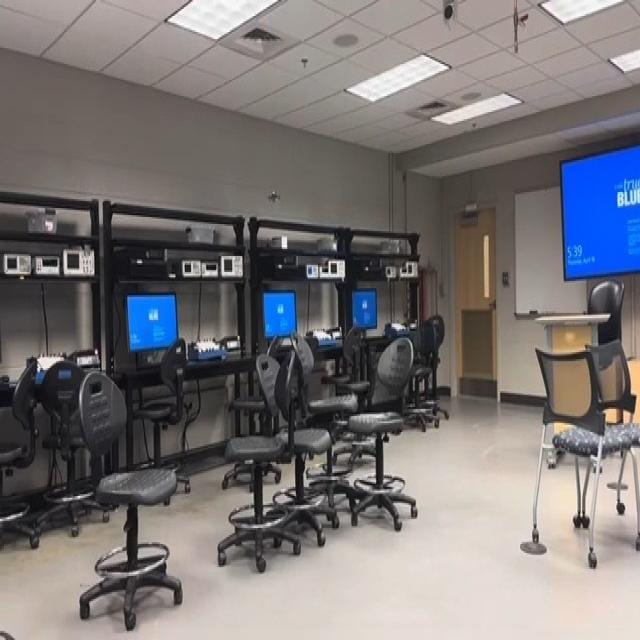drone: (258, 172, 285, 217)
